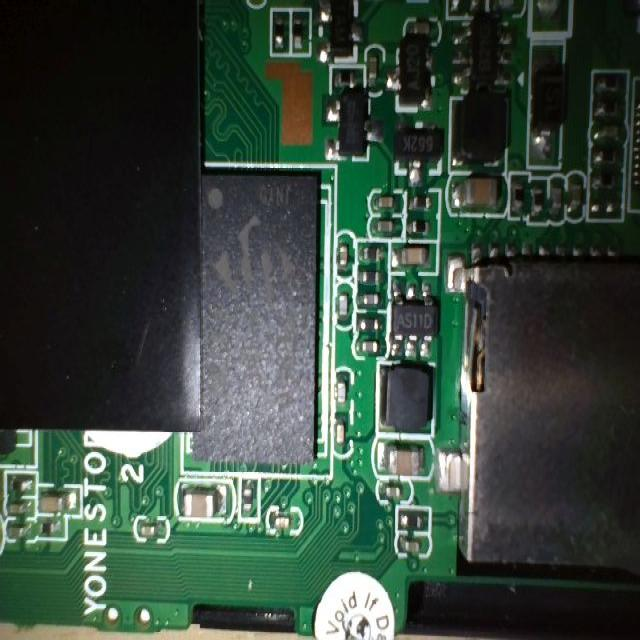capacitor: (444, 168, 513, 224), (175, 475, 235, 531), (374, 431, 435, 482), (34, 484, 89, 525), (388, 238, 441, 280), (331, 282, 359, 334), (334, 227, 358, 283)
resistor: (31, 514, 68, 543)
